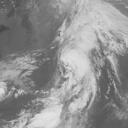cyclone: (54, 39, 96, 93)
